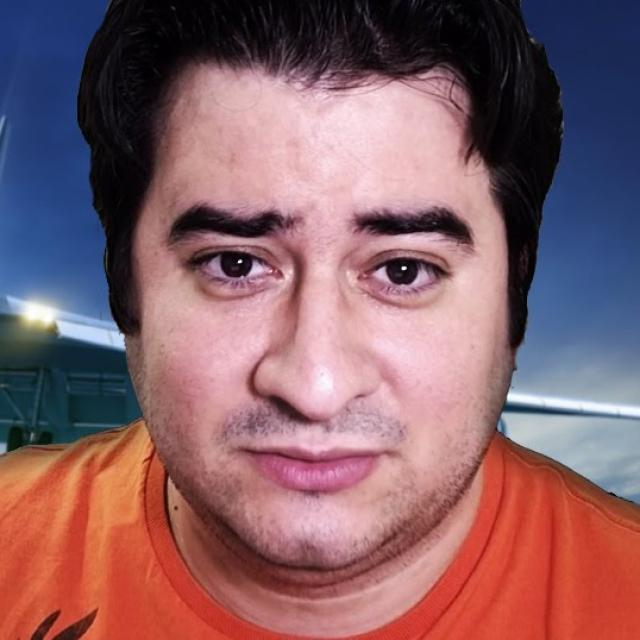Depress: (134, 65, 516, 583)
